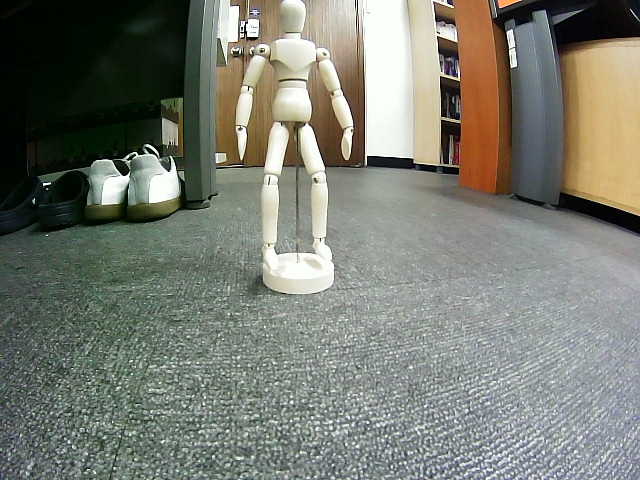person: (234, 1, 354, 270)
